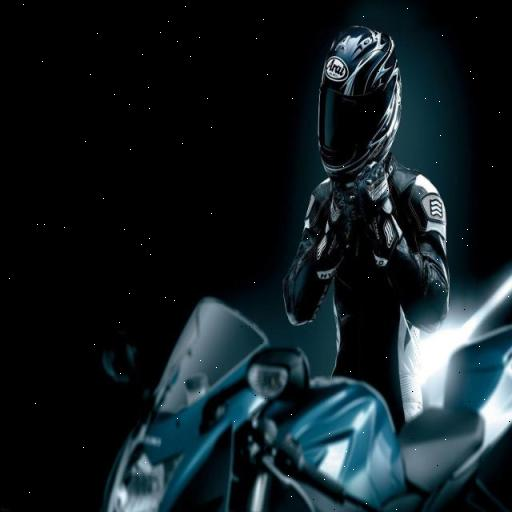Helmet: (318, 27, 400, 179)
Motor: (104, 299, 511, 511)
